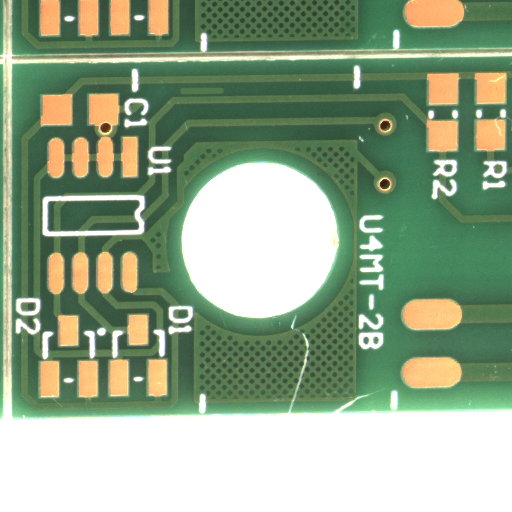Spurious_copper: (201, 91, 247, 101)
